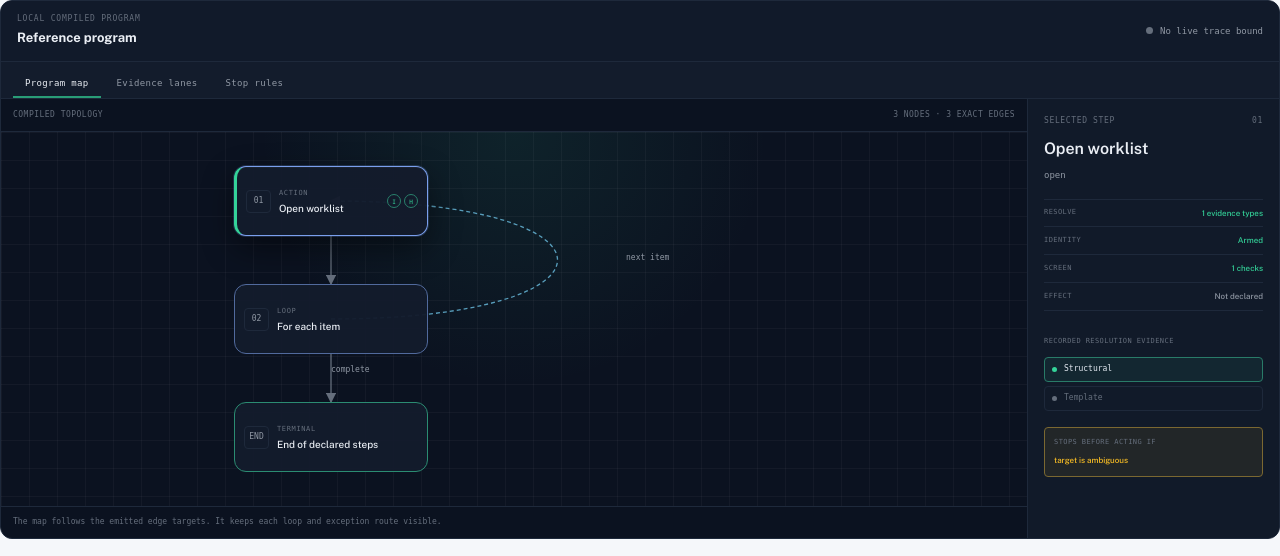
Test: ProgramWorkbench › updates the inspector from an exact selected node
The image size is (1280, 556).
Click the button "02 loop For each item" at point(331, 319), box [234,284,428,354]
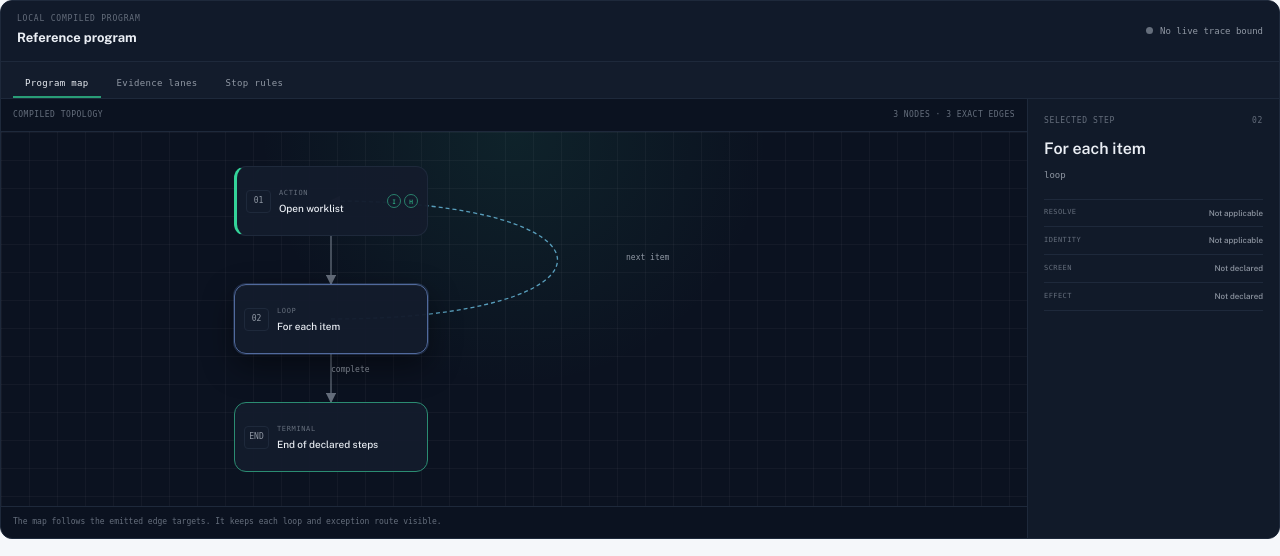
Expected: the element named "Selected program step" shows "For each item", [1044,139,1146,158]
Expected: the element named "Selected program step" shows "loop", [1044,170,1066,180]
